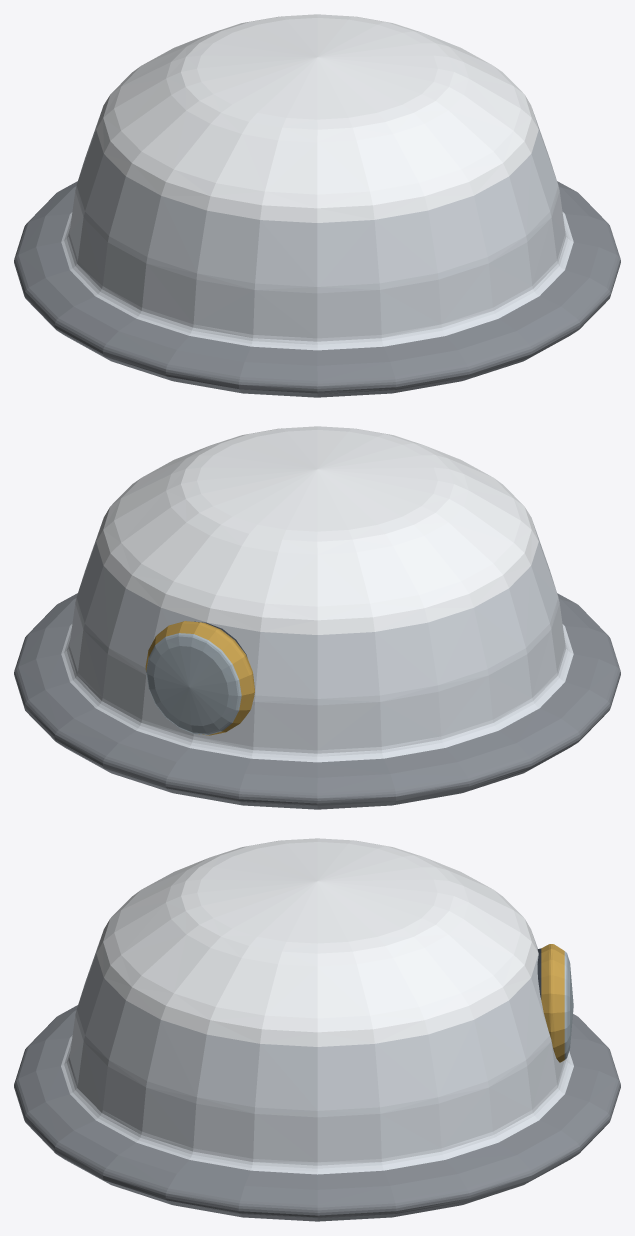
Rendered from HatMiner.obj.
3 renders of one model, top to bottom at view 1: azimuth 30°, elevation 25°; view 2: azimuth 150°, elevation 25°; view 3: azimuth 270°, elevation 25°, orthographic.
Bounding box in the file's own units: 1.68 × 0.68 × 1.68.
